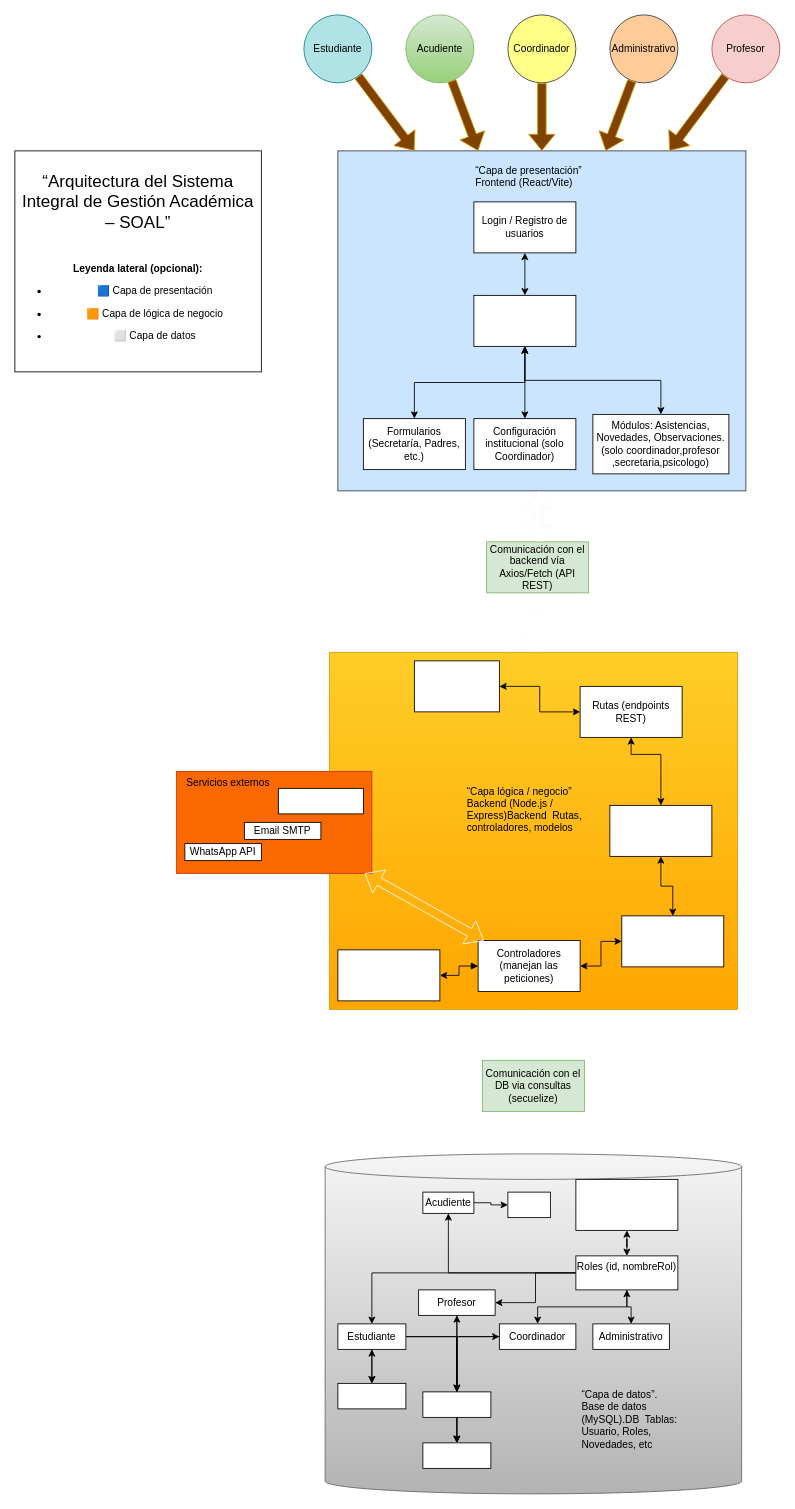
Some shapes in this 795 by 1509 pixel diagram are drawn without their labels. Each missing label, with the box of its shape:
Asistencias: (422, 1442, 491, 1468)
Cloudinary (para evidencias): (278, 788, 363, 814)
Dashboard dinámico según rol: (473, 295, 576, 346)
EPS: (337, 1383, 406, 1409)
Gestión de sesiones y roles: (621, 915, 724, 967)
Middleware (autenticación JWT): (609, 805, 712, 856)
Modelos (estructura de datos): (337, 949, 440, 1001)
Observaciones: (422, 1391, 491, 1417)
PQRs: (507, 1191, 550, 1218)
Servidor (server.js): (414, 660, 499, 712)
Usuario (id, usuario, contraseña, rol, activo): (575, 1179, 678, 1230)
